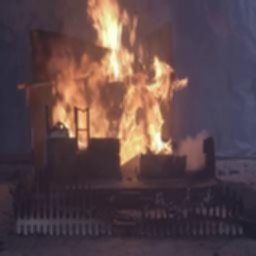fire: (36, 3, 188, 146)
